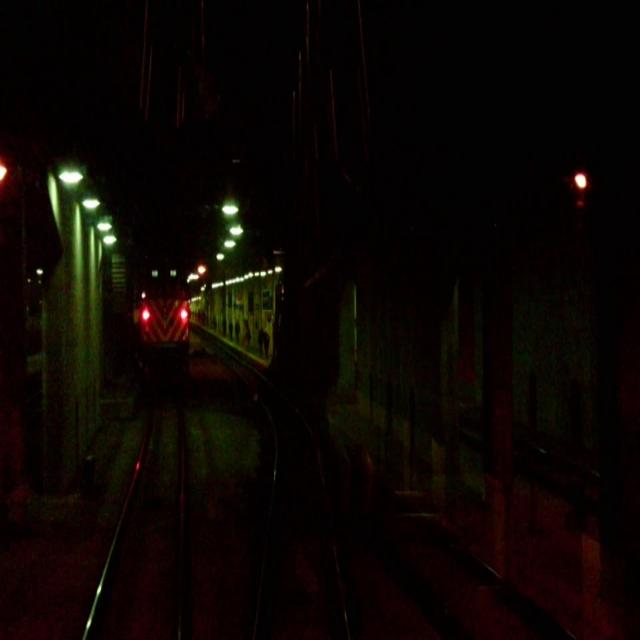rail-track: (198, 332, 345, 639), (87, 401, 180, 639)
